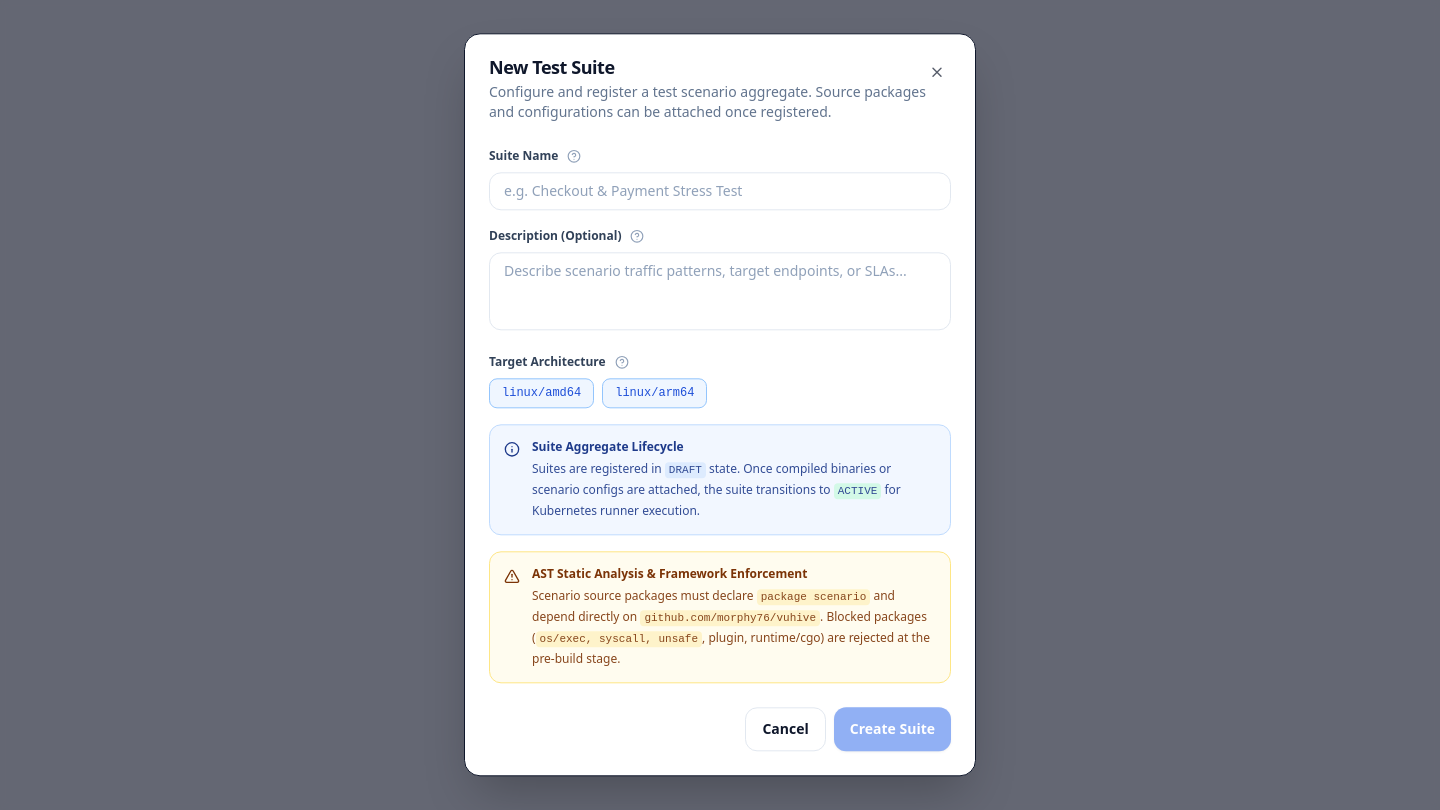
Test case: CreateSuiteDialog Name Uniqueness Validation › validates name uniqueness in real-time and disables submission on duplicate
Type duplicate name (case-insensitive)
Type "checkout & payment stress test" into the field labelled "Suite Name" at (720, 191), box [489,172,951,210]
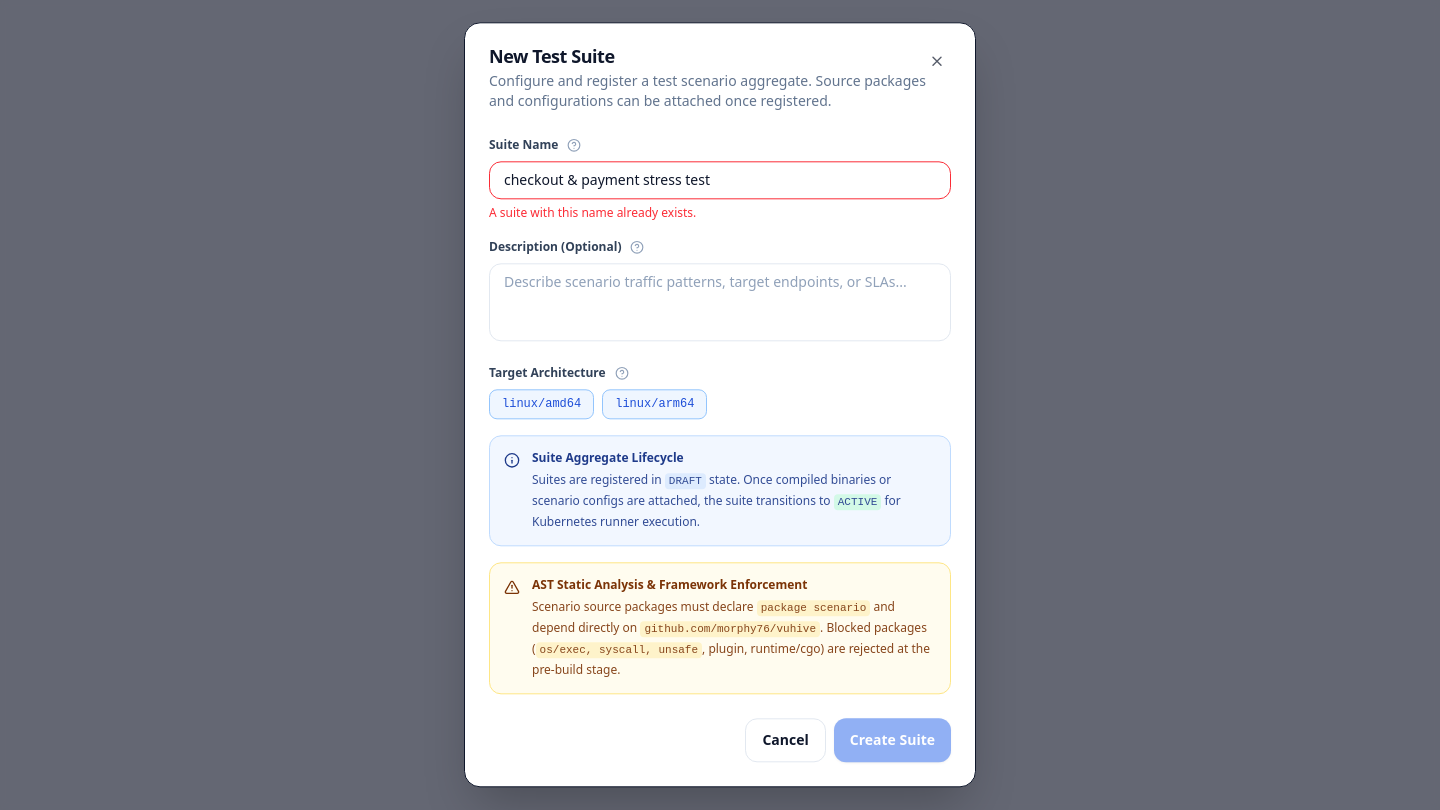
Expected: the button "Create Suite" is disabled, [834,719,951,763]
Now the text "A suite with this name already exists." is shown, box [489,204,696,221]
Change to unique name
Replace the text in the field labelled "Suite Name" with "New Unique Scenario Suite" at (720, 180), box [489,161,951,199]
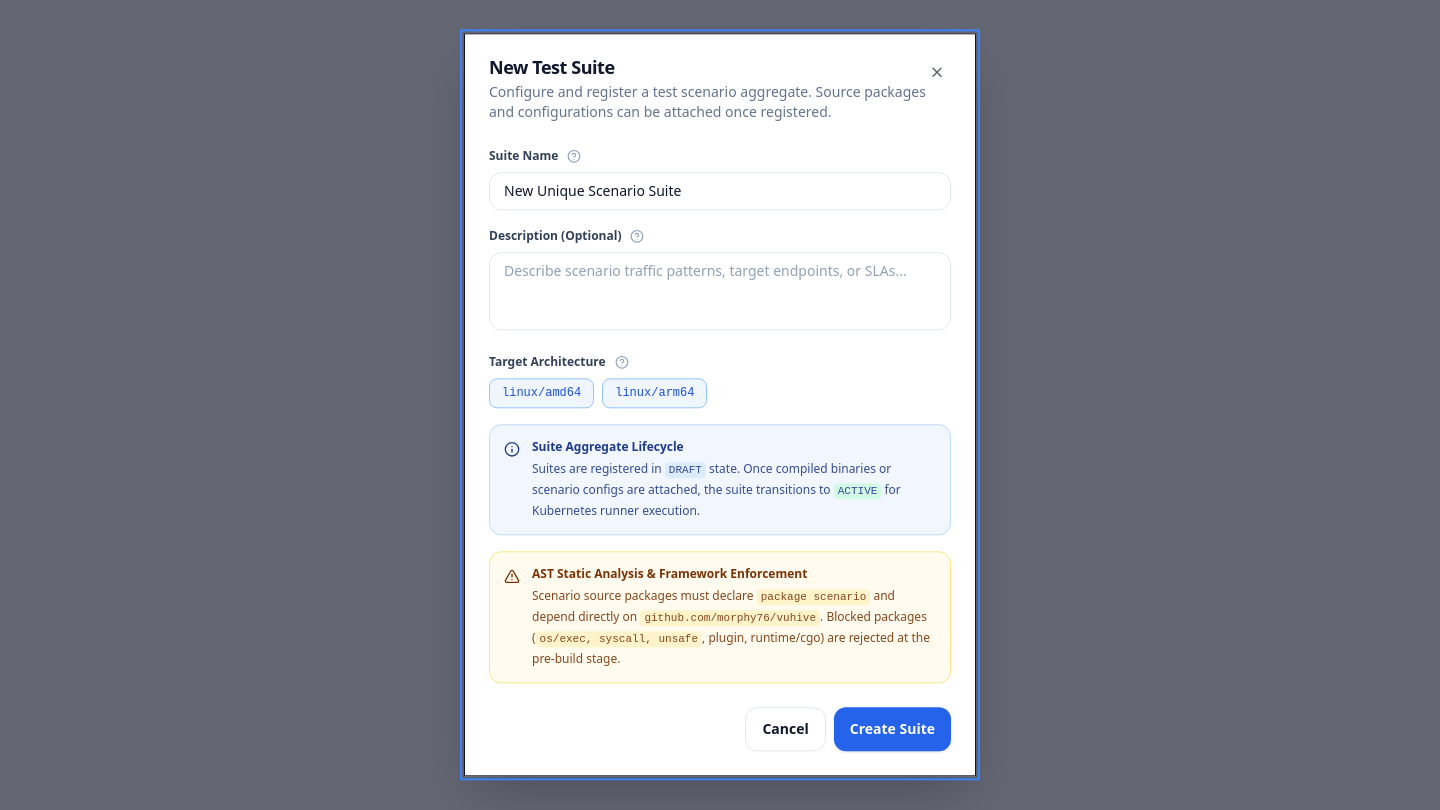
Now the text "A suite with this name already exists" is gone
Now the button "Create Suite" is enabled, box [834,708,951,752]
